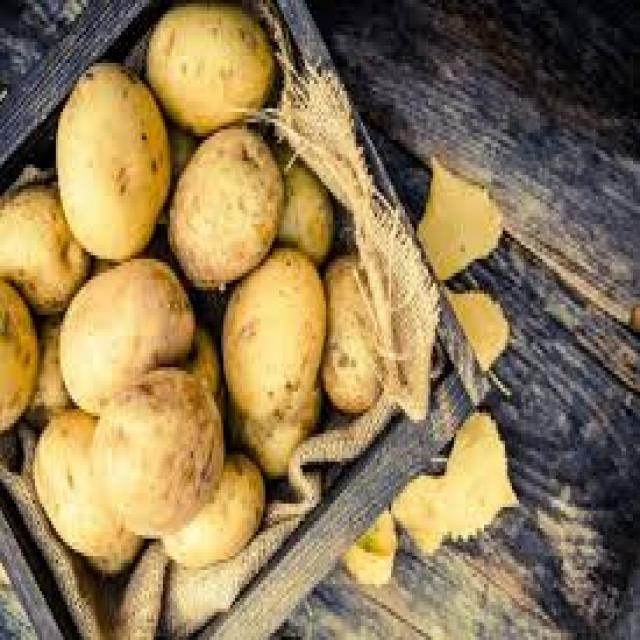potato: (56, 63, 172, 261), (93, 367, 226, 539), (170, 126, 286, 289), (223, 248, 328, 421), (147, 3, 275, 136)
